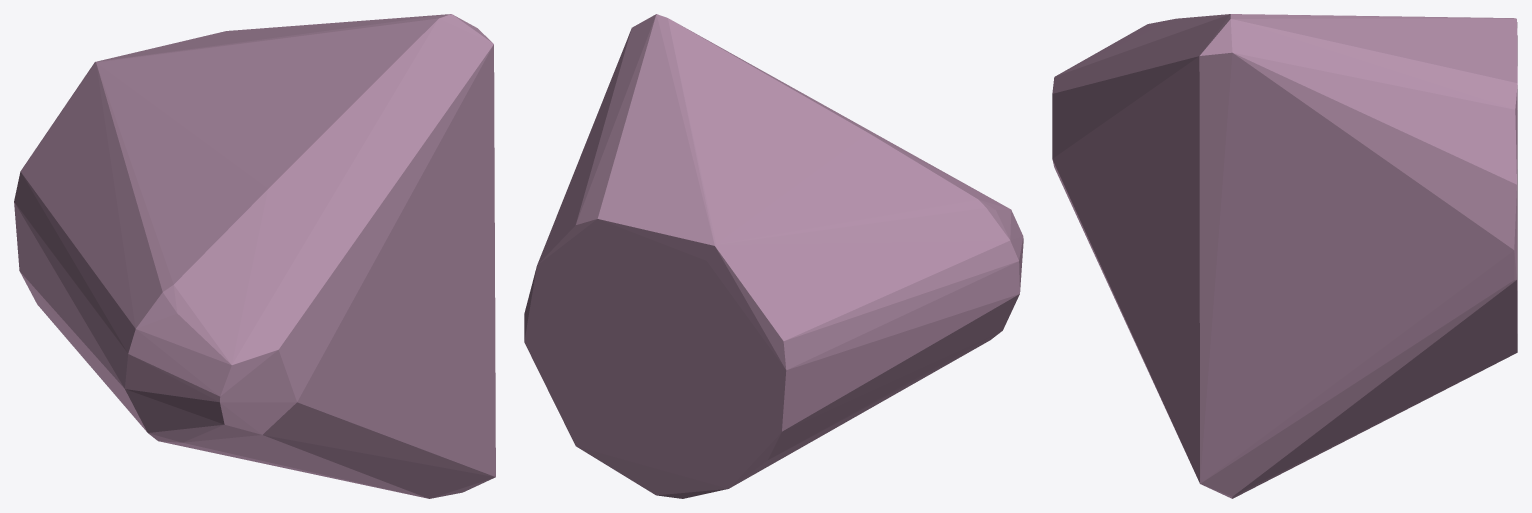
File: engineComponent_belt_tensioner_a01.glb
The picture shows the model from 3 angles, left to right: view 1: azimuth 30°, elevation 25°; view 2: azimuth 150°, elevation 25°; view 3: azimuth 270°, elevation 25°; orthographic projection. The views are drawn at different scales.
Parts seen in each view (by area): view 1: geometry_0; view 2: geometry_0; view 3: geometry_0.
Boxes of the visible parts, <box> form: geometry_0: <box>14,14,495,498</box>; geometry_0: <box>524,14,1023,498</box>; geometry_0: <box>1052,14,1517,498</box>.
Bounding box in the file's own units: 0.4092 × 0.4754 × 0.4226.
